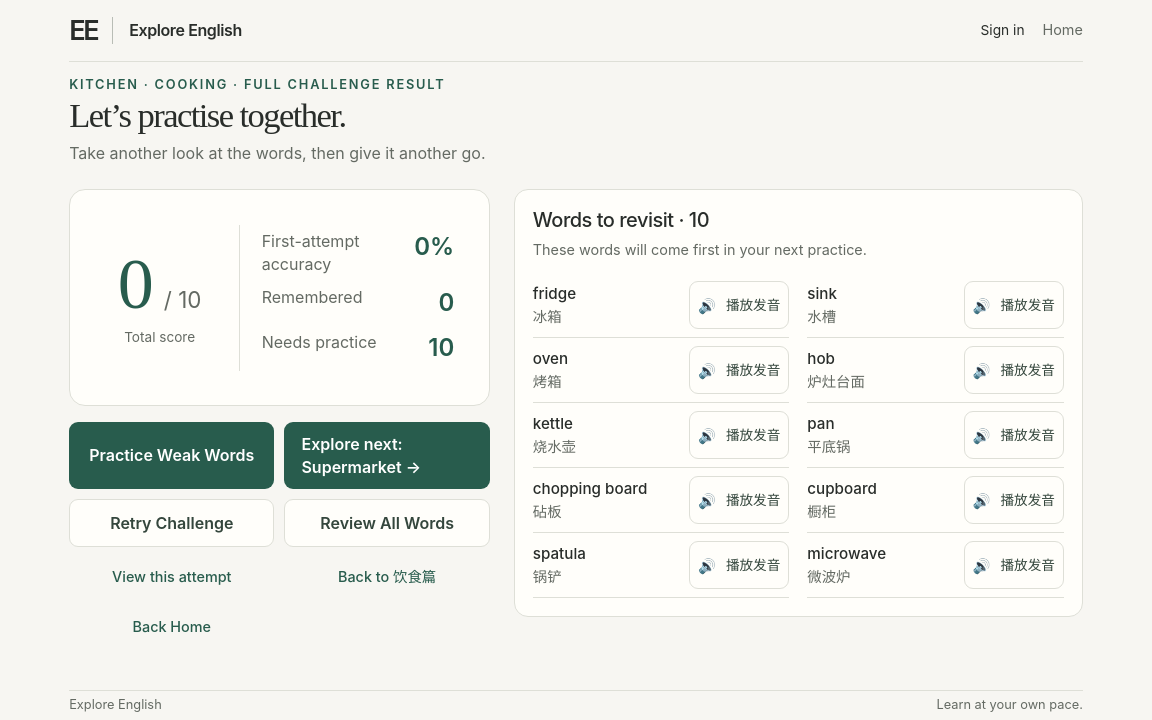
Test case: paged content and result dialogs › puts the complete attempt history in a keyboard-accessible dialog, restoring focus on close
Click the button "View this attempt" at (172, 577), box 69,557 -> 274,597
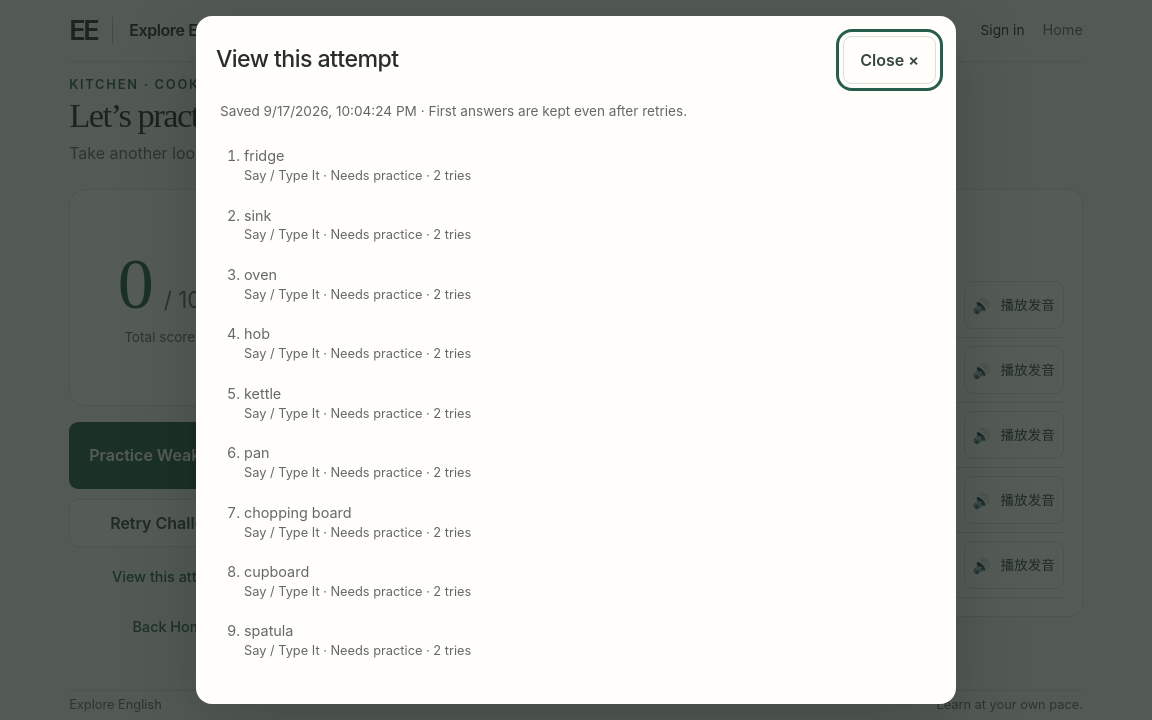
Result: the number of list items is 10
Press Escape
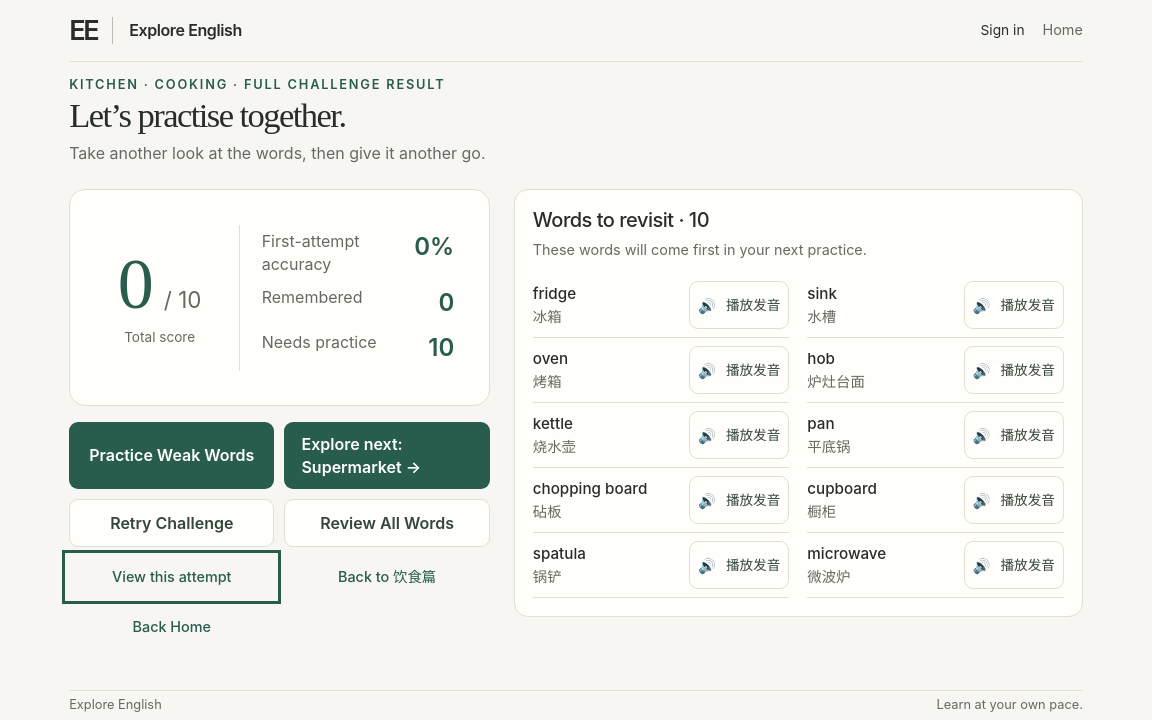
Expected: the heading "Let’s practise together." is shown, 69,96 -> 346,134
Result: the dialog is gone
